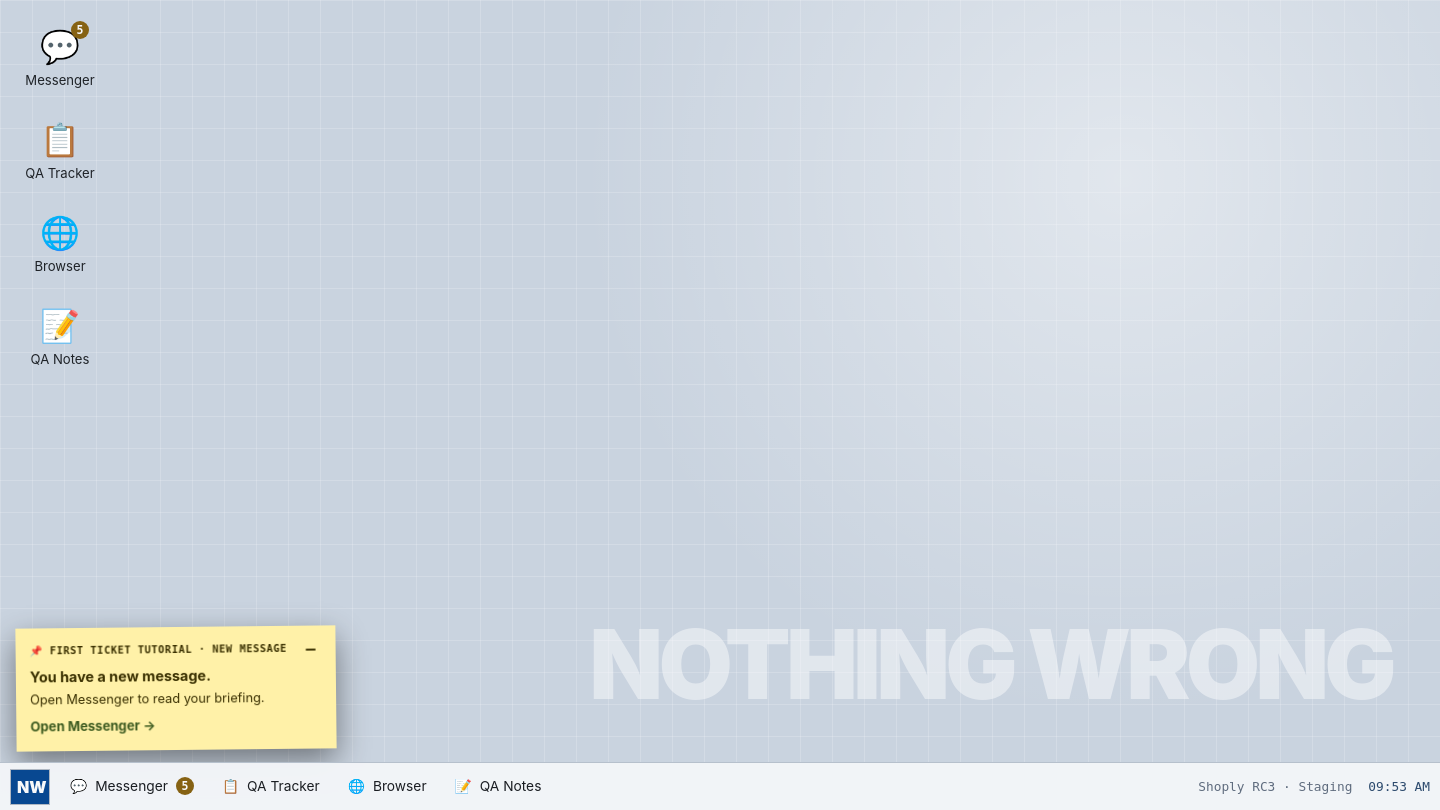
Test: QA workstation desktop › accepts a Ticket in QA Tracker and keeps later Tickets locked
This screenshot has width=1440, height=810.
Click the 1st button "💬 Messenger 5" at coordinates (60, 58), box [16,16,104,99]
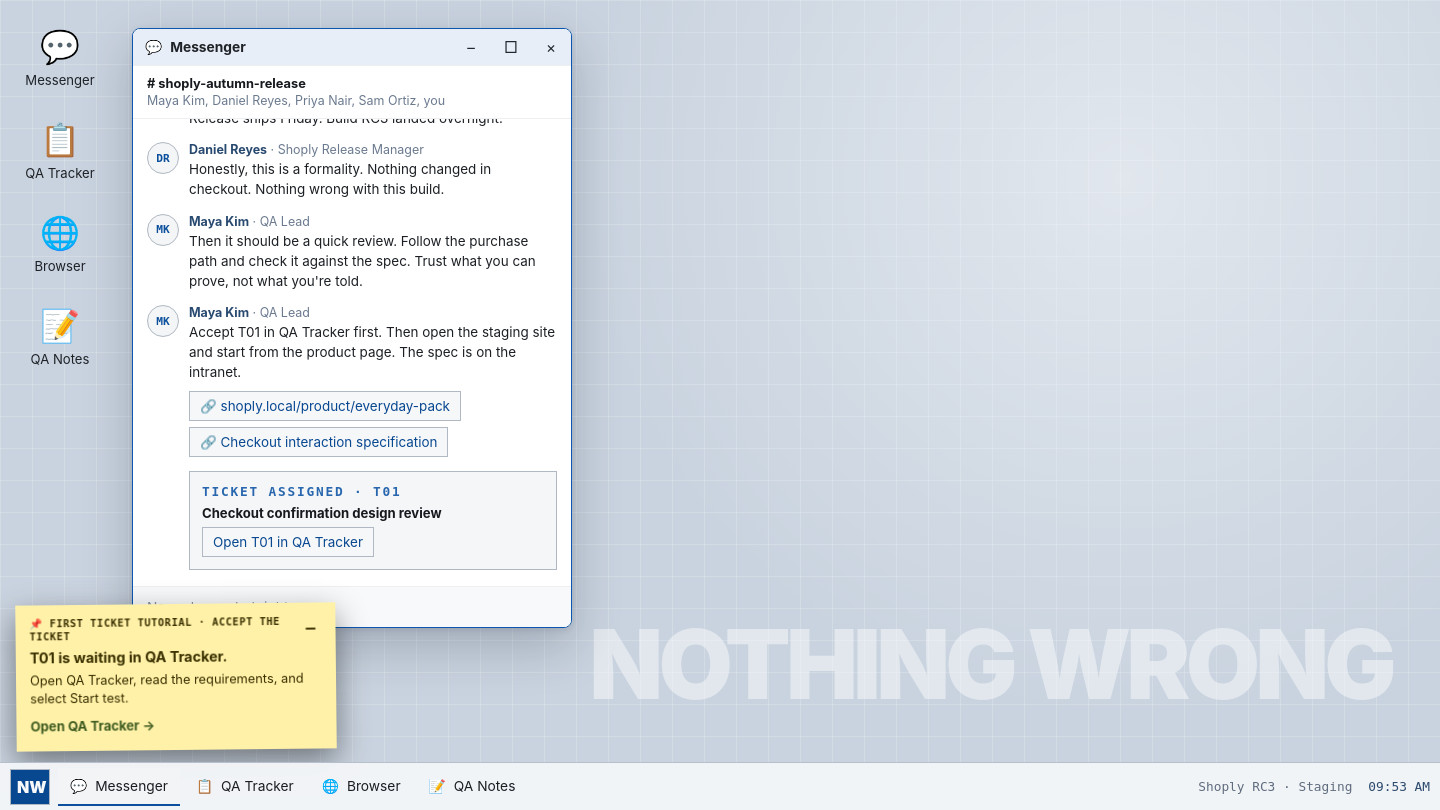
Click the button "Open T01 in QA Tracker" at coordinates (288, 542), box [202,527,374,557]
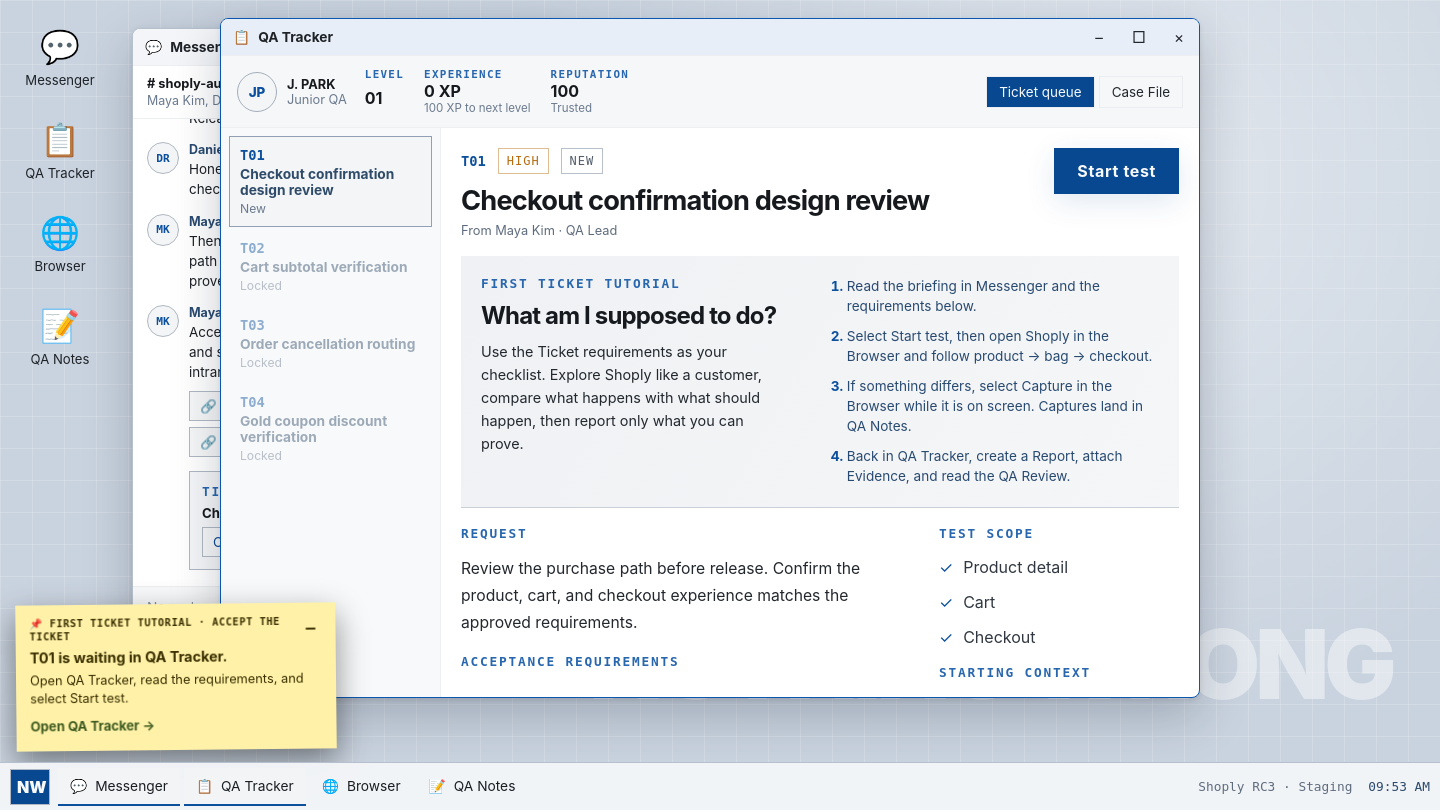
Expected: the heading "Checkout confirmation design review" is shown, [461,184,929,217]
Expected: the element named "How to play your first Ticket" is shown, [461,256,1179,508]
Expected: the button "T02 Cart subtotal verification Locked" is disabled, [229,229,432,304]
Click the button "Start test" at coordinates (1117, 171), box [1054,148,1179,194]
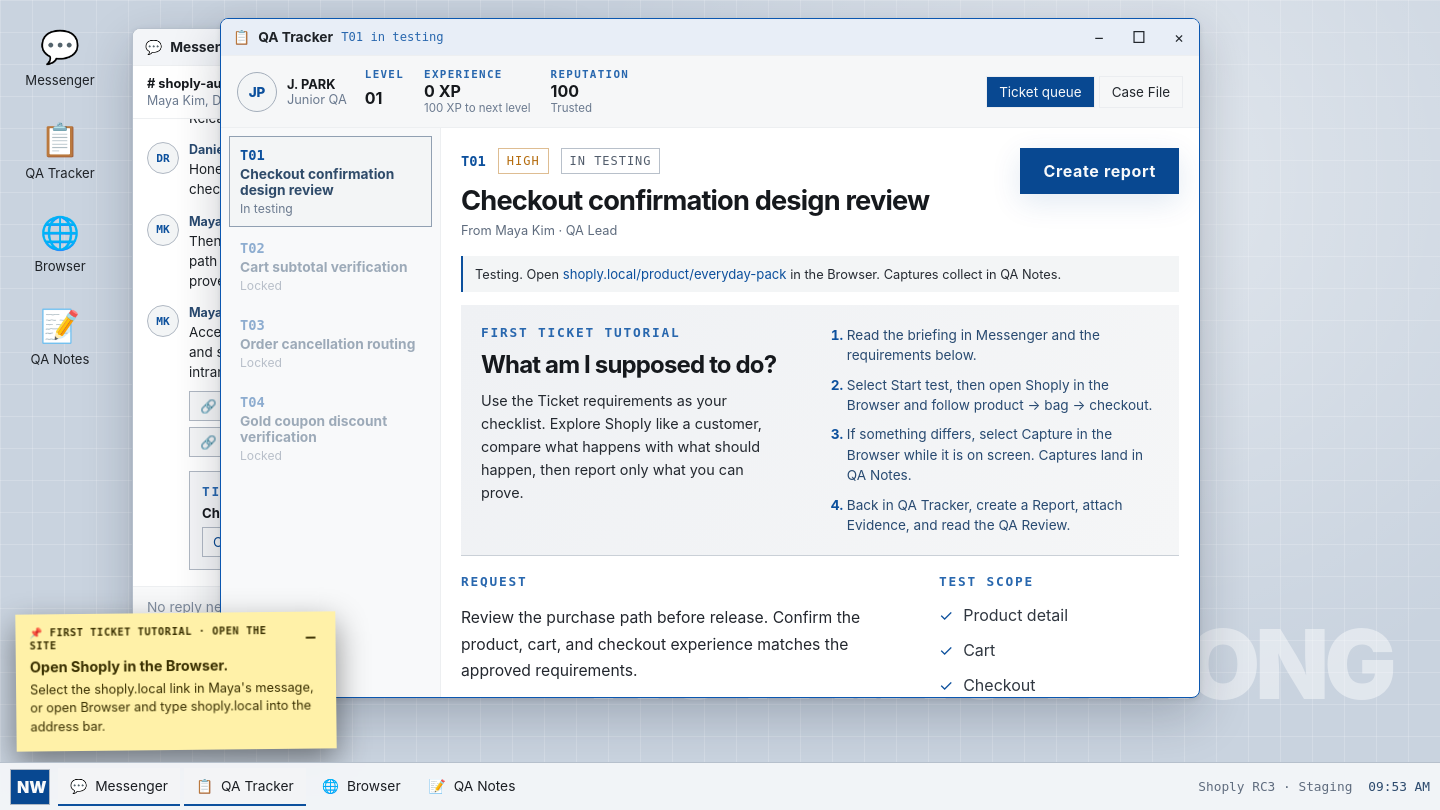
Expected: the element "Messenger" is shown, [132,28,572,628]
Expected: the element "First Ticket tutorial" shows "Open Shoply in the Browser.", [30,657,228,676]
